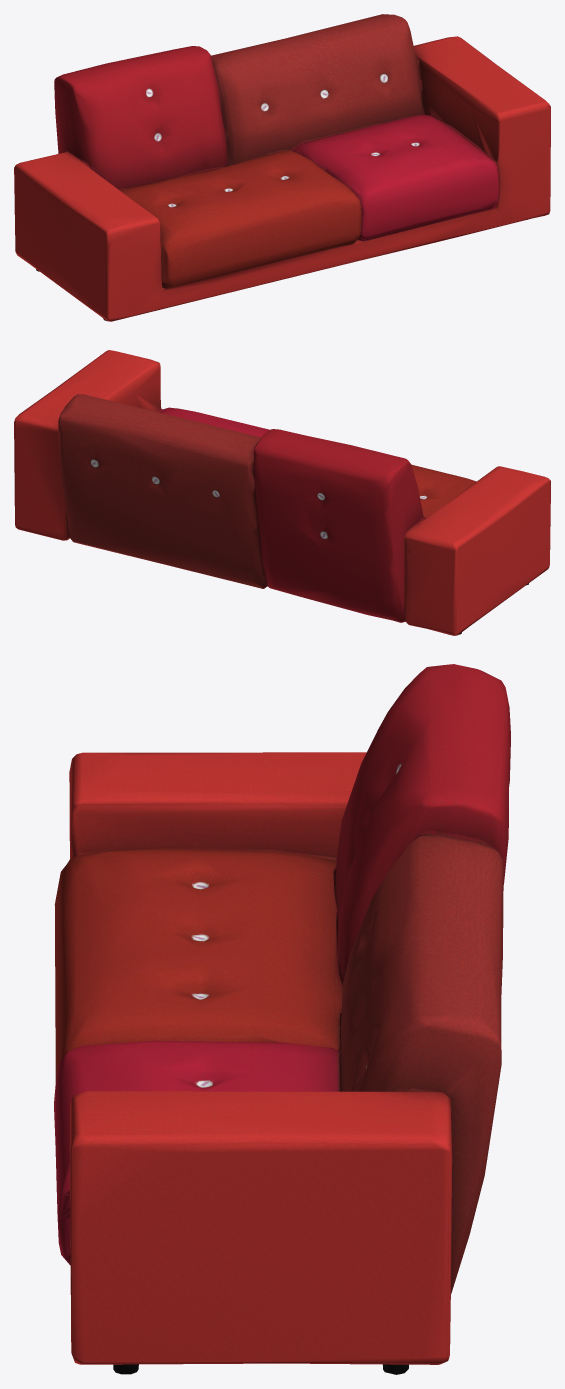
Rendered from sofa.dae.
3 views of the same model, one above another, from view 1: azimuth 30°, elevation 25°; view 2: azimuth 150°, elevation 25°; view 3: azimuth 270°, elevation 25° (orthographic). The views are drawn at different scales.
Parts seen in each view (by area): view 1: cover; view 2: cover; view 3: cover.
Boxes of the visible parts, x1=… form: cover: x1=14, y1=14, x2=550, y2=321; cover: x1=14, y1=350, x2=550, y2=635; cover: x1=54, y1=664, x2=510, y2=1374.
Bounding box in the file's own units: 2.22 × 0.9919 × 0.8232.
Materials: 1 (1 with a texture image).
